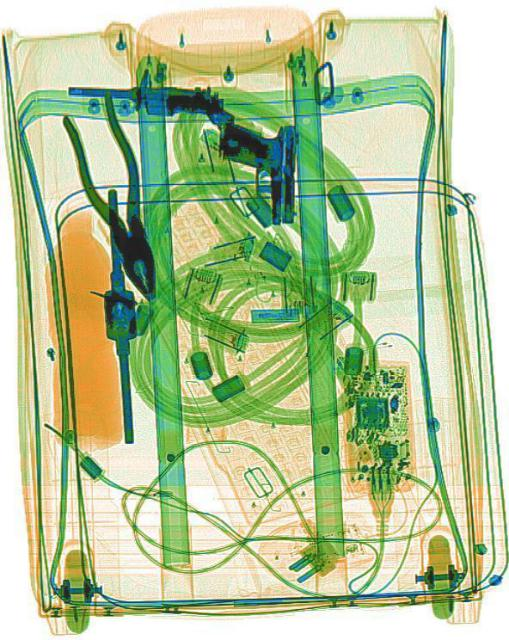Gun: (216, 121, 295, 225), (65, 82, 234, 126)
Pliers: (55, 89, 176, 313)
